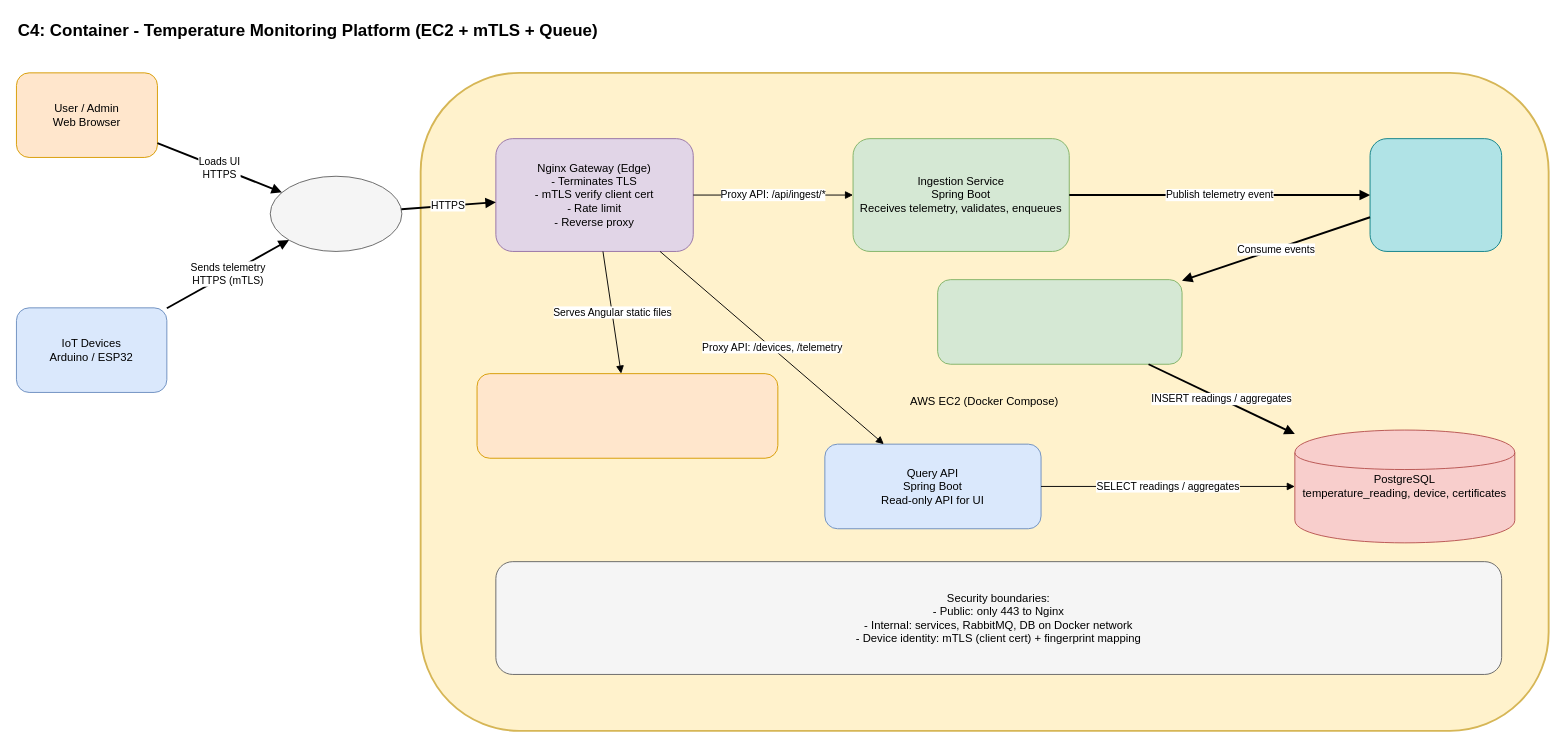
Image size: 1566x747. Some labels were removed from this diagram. The shapes that lost their labels are listed below. From the top down, each one's centre as x and y in pixels, then its label:
pixel 335 213: Internet
pixel 1435 194: RabbitMQ Telemetry Queue
pixel 1059 321: Processor Service Spring Boot Consumes queue, persists, aggregates
pixel 627 415: Static Web Hosting (Angular build) served by Nginx
